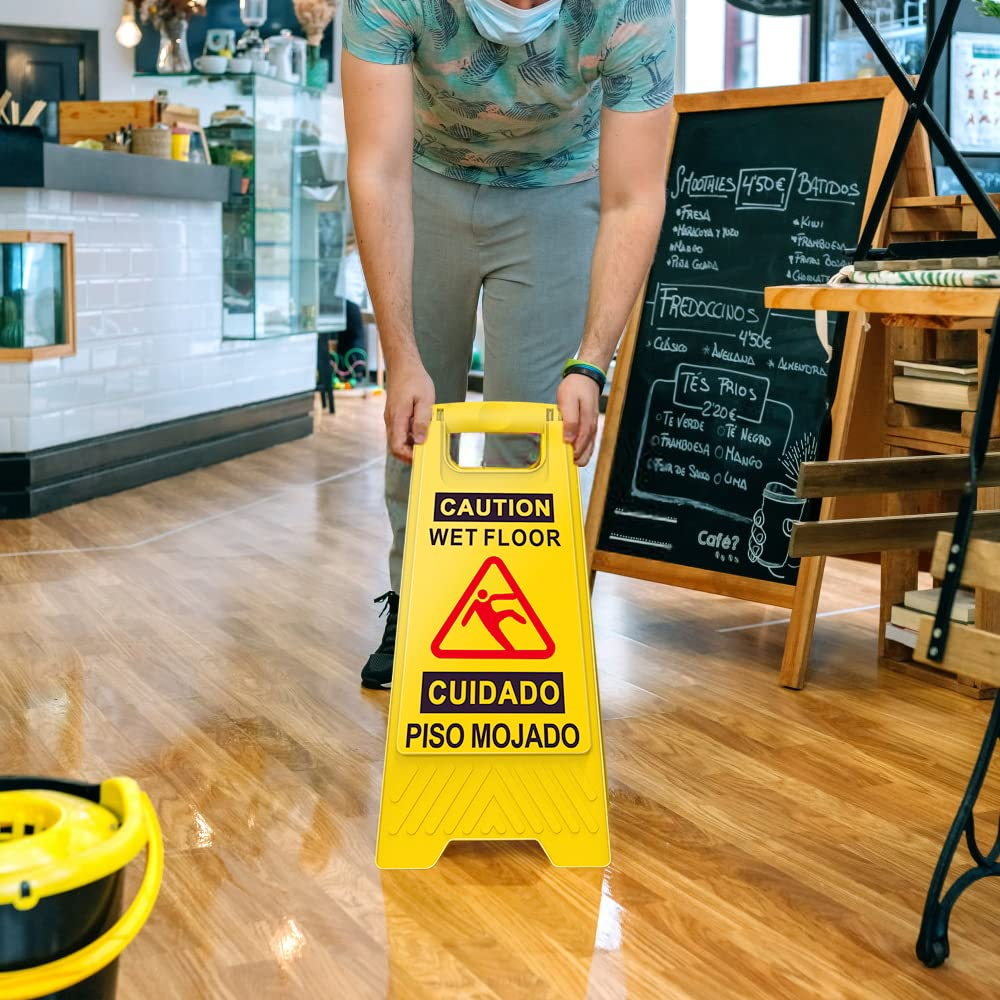wet caution sign: (379, 389, 603, 874)
